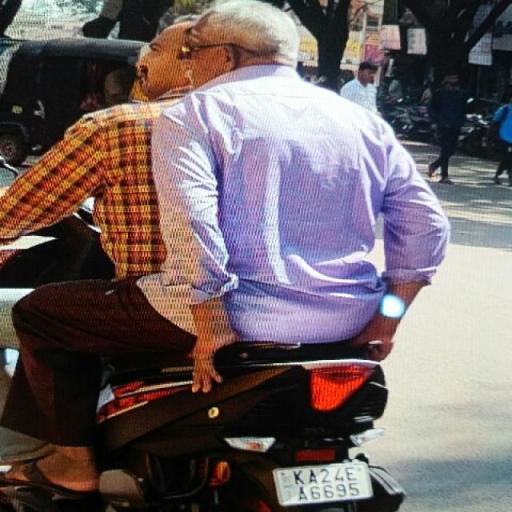bike: (2, 4, 456, 512)
numberplate: (276, 458, 374, 511)
withouthelmet: (194, 1, 299, 70), (138, 15, 185, 91)
